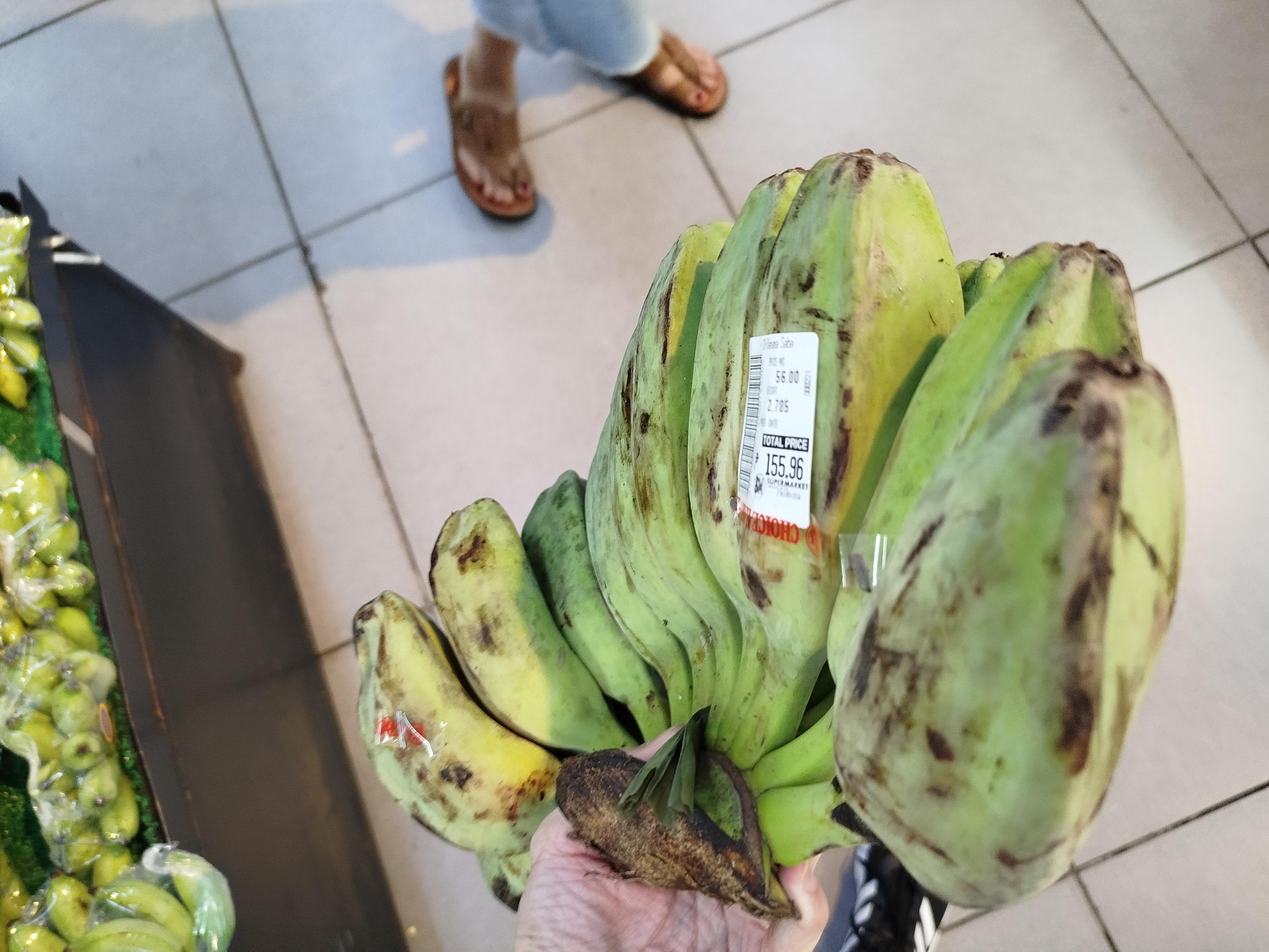underripe: (354, 150, 1184, 908)
